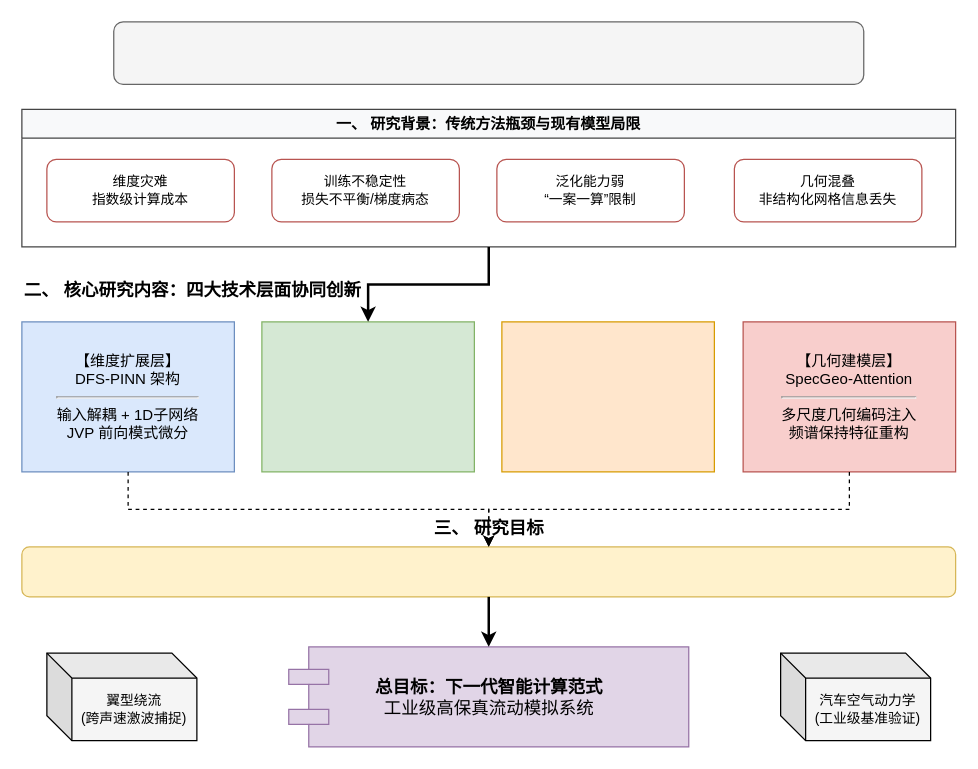
The diagram is 978 pixels wide and 769 high, and some of its shapes have lost their labels. The shapes that lost their labels are listed below. From the top down, each one's box as (x1, y1, x2, y2) in pixels, then its label:
(112, 21, 864, 84): 下一代几何感知物理信息神经网络 (PINN) 求解框架技术路线图
(261, 321, 474, 472): 【梯度调控层】 双重梯度协同优化 分层梯度增强 (HGE) NTK 动态权重分配
(501, 321, 714, 472): 【工况自适应层】 Taylor-MoE 专家系统 线性/非线性显式分解 空间动态计算路由
(21, 546, 956, 597): 复杂度降至线性 O(N) | 提升多尺度物理表达 | 彻底解决病态收敛 | 实现跨参数秒级推理
